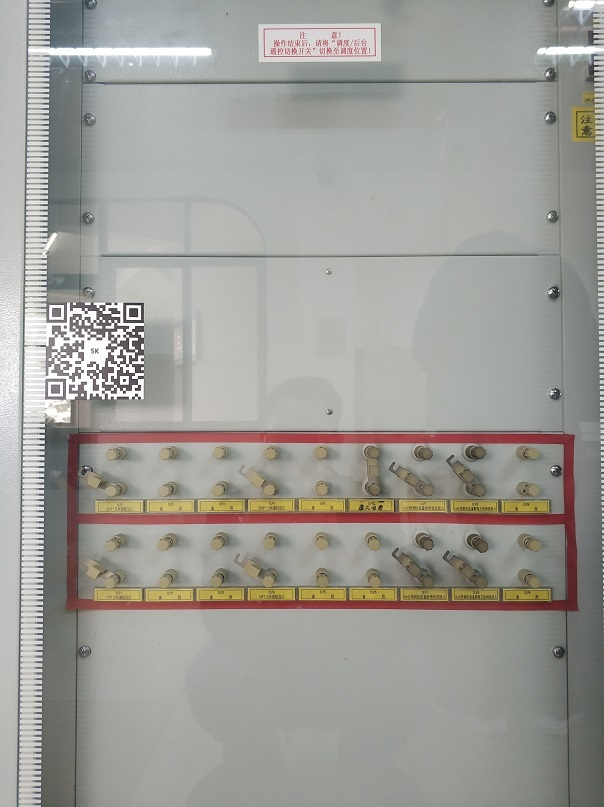ybempty: (512, 445, 546, 498), (310, 532, 340, 588), (153, 446, 180, 499)
ybopen: (439, 529, 491, 585), (386, 446, 443, 496), (238, 446, 290, 499)
